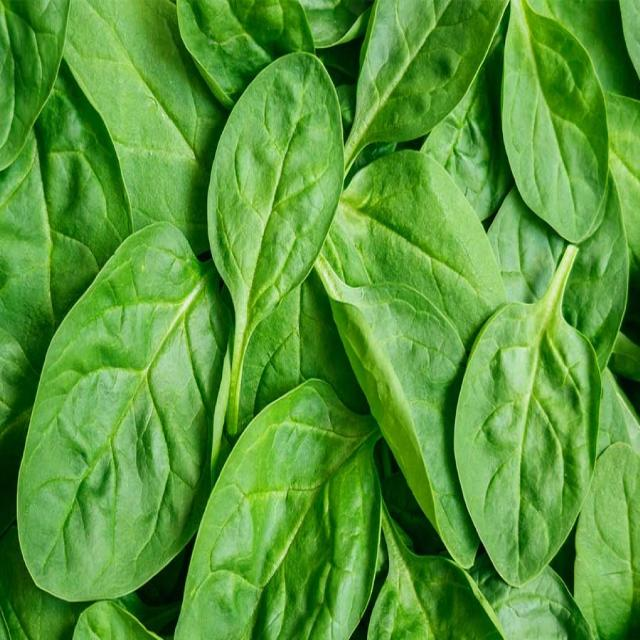spinach: (16, 252, 178, 594), (454, 297, 604, 587), (178, 424, 374, 640), (206, 52, 337, 299), (501, 11, 609, 243), (354, 0, 484, 137)
